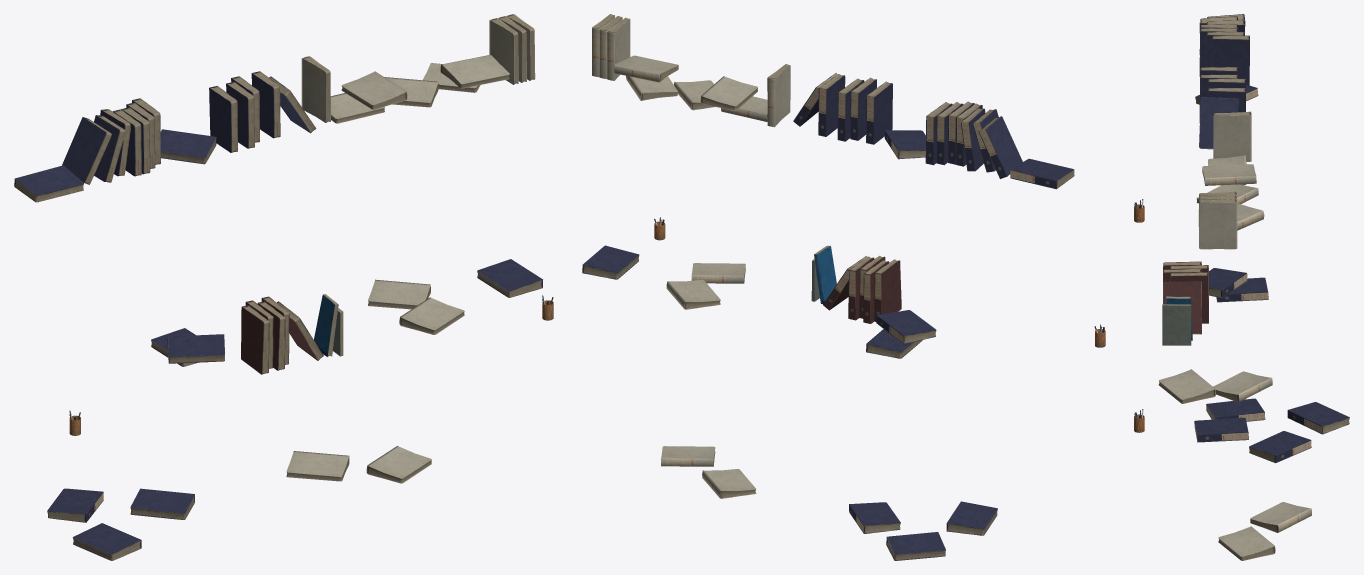
Rendered from sm39_021_counterset01a.fbx.
3 views of the same model, side by side, from view 1: azimuth 30°, elevation 25°; view 2: azimuth 150°, elevation 25°; view 3: azimuth 270°, elevation 25° (orthographic). The views are drawn at different scales.
Parts seen in each view (by area): view 1: LOD_1_Group_0_Sub_1__sm36_007_PaperWork01A_A_Mat, LOD_1_Group_1_Sub_1__sm36_007_PaperWork01A_A_Mat, LOD_1_Group_2_Sub_1__sm36_007_PaperWork01A_A_Mat, LOD_1_Group_4_Sub_1__sm36_007_PaperWork01A_A_Mat; view 2: LOD_1_Group_0_Sub_1__sm36_007_PaperWork01A_A_Mat, LOD_1_Group_1_Sub_1__sm36_007_PaperWork01A_A_Mat, LOD_1_Group_2_Sub_1__sm36_007_PaperWork01A_A_Mat, LOD_1_Group_4_Sub_1__sm36_007_PaperWork01A_A_Mat; view 3: LOD_1_Group_0_Sub_1__sm36_007_PaperWork01A_A_Mat, LOD_1_Group_1_Sub_1__sm36_007_PaperWork01A_A_Mat, LOD_1_Group_2_Sub_1__sm36_007_PaperWork01A_A_Mat, LOD_1_Group_5_Sub_1__sm36_007_PaperWork01A_A_Mat, LOD_1_Group_0_Sub_2__sm36_031_Penholder01A_E_Mat.
Boxes of the visible parts, <box> form: LOD_1_Group_0_Sub_1__sm36_007_PaperWork01A_A_Mat: <box>14,71,542,560</box>; LOD_1_Group_1_Sub_1__sm36_007_PaperWork01A_A_Mat: <box>286,14,535,483</box>; LOD_1_Group_2_Sub_1__sm36_007_PaperWork01A_A_Mat: <box>241,296,323,374</box>; LOD_1_Group_4_Sub_1__sm36_007_PaperWork01A_A_Mat: <box>314,294,338,356</box>; LOD_1_Group_0_Sub_1__sm36_007_PaperWork01A_A_Mat: <box>582,73,1074,560</box>; LOD_1_Group_1_Sub_1__sm36_007_PaperWork01A_A_Mat: <box>592,14,790,498</box>; LOD_1_Group_2_Sub_1__sm36_007_PaperWork01A_A_Mat: <box>823,256,901,323</box>; LOD_1_Group_4_Sub_1__sm36_007_PaperWork01A_A_Mat: <box>814,245,836,303</box>; LOD_1_Group_0_Sub_1__sm36_007_PaperWork01A_A_Mat: <box>1194,14,1349,463</box>; LOD_1_Group_1_Sub_1__sm36_007_PaperWork01A_A_Mat: <box>1158,111,1311,560</box>; LOD_1_Group_2_Sub_1__sm36_007_PaperWork01A_A_Mat: <box>1163,261,1208,334</box>; LOD_1_Group_5_Sub_1__sm36_007_PaperWork01A_A_Mat: <box>1162,304,1191,345</box>; LOD_1_Group_0_Sub_2__sm36_031_Penholder01A_E_Mat: <box>1134,199,1144,432</box>.
Bounding box in the file's own units: 3.31 × 2.71 × 1.34.
